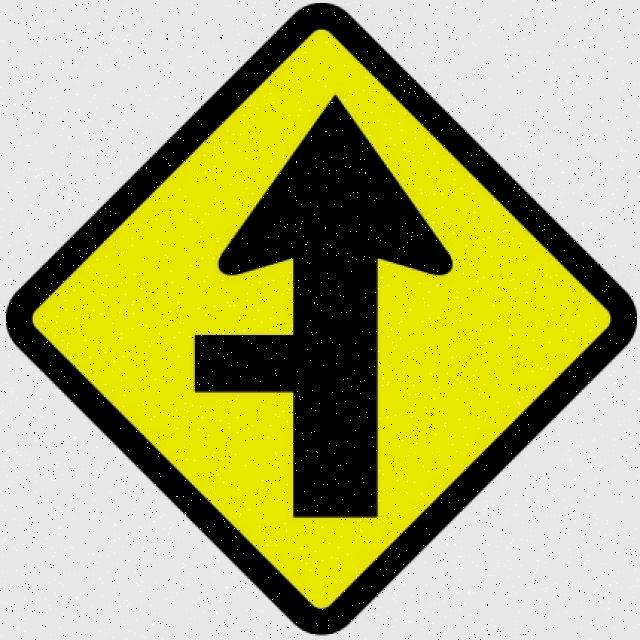Persimpangan 3 Prioritas Kiri: (4, 4, 636, 636)
